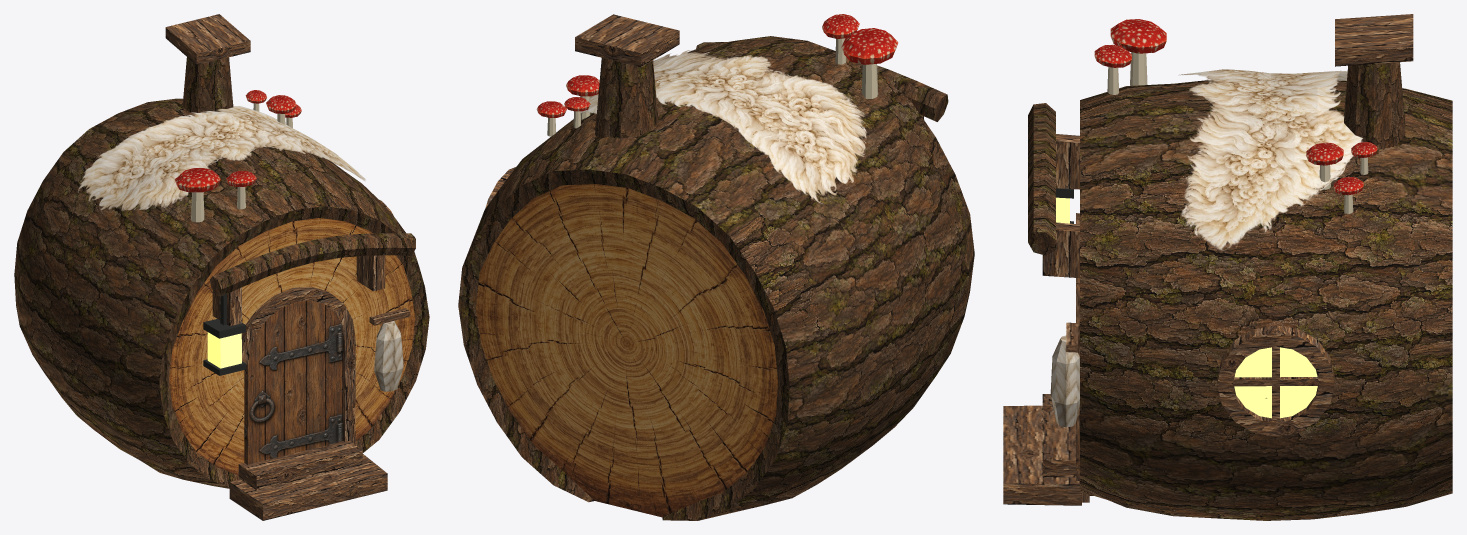
The model's file is house-forest-02.glb.
3 renders of one model, left to right at view 1: azimuth 30°, elevation 25°; view 2: azimuth 150°, elevation 25°; view 3: azimuth 270°, elevation 25°, orthographic. The views are drawn at different scales.
Visible parts, largest first — view 1: log, end_f, door, hide, rim_f, step0, canopy_branch, door_frame, step1, chimney_cap, chimney, skein (+5 smaller); view 2: log, end_b, hide, rim_b, chimney, chimney_cap, canopy_branch, amanita0_cap, amanita1_cap, amanita2_cap; view 3: log, hide, win_frame_0, step0, chimney, canopy_branch, chimney_cap, win_0, skein, step1, canopy_post_0.52, amanita0_cap (+6 smaller).
Part boxes in pixels (x1,y1,x2,y2): log: (14,98,421,488); end_f: (169,218,415,475); door: (244,300,343,464); hide: (78,106,365,211); rim_f: (159,206,429,487); step0: (229,454,387,520); canopy_branch: (209,233,415,296); door_frame: (241,286,355,444); step1: (238,441,362,490); chimney_cap: (165,14,250,64); chimney: (182,57,233,112); skein: (374,321,403,391); log: (462,36,974,520); end_b: (476,184,777,517); hide: (580,50,866,203); rim_b: (458,169,789,520); chimney: (595,58,658,138); chimney_cap: (575,14,679,67); canopy_branch: (696,42,948,121); amanita0_cap: (841,28,898,64); amanita1_cap: (822,14,859,38); amanita2_cap: (566,75,599,96); log: (1080,80,1452,520); hide: (1178,69,1362,250); win_frame_0: (1217,325,1334,436); step0: (1003,405,1081,505); chimney: (1344,62,1405,149); canopy_branch: (1028,103,1055,255); chimney_cap: (1335,14,1413,66); win_0: (1234,347,1317,418); skein: (1050,335,1079,427); step1: (1042,394,1075,477); canopy_post_0.52: (1042,222,1079,278); amanita0_cap: (1110,19,1166,53).
Bounding box in the file's own units: 2.42 × 2.55 × 2.29.
Materials: 10 (7 with a texture image).
